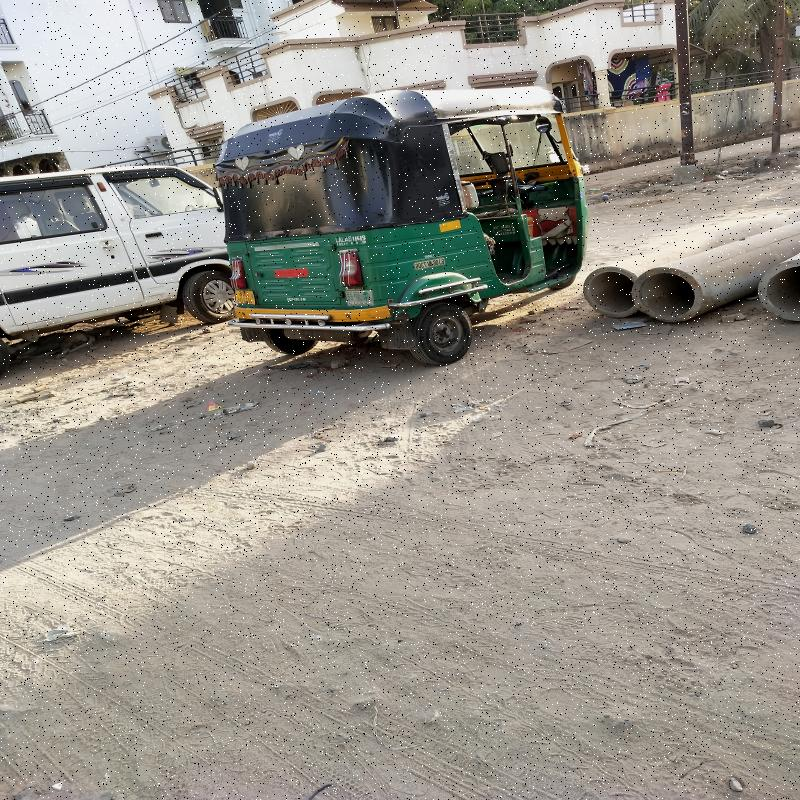auto: (220, 91, 558, 360)
